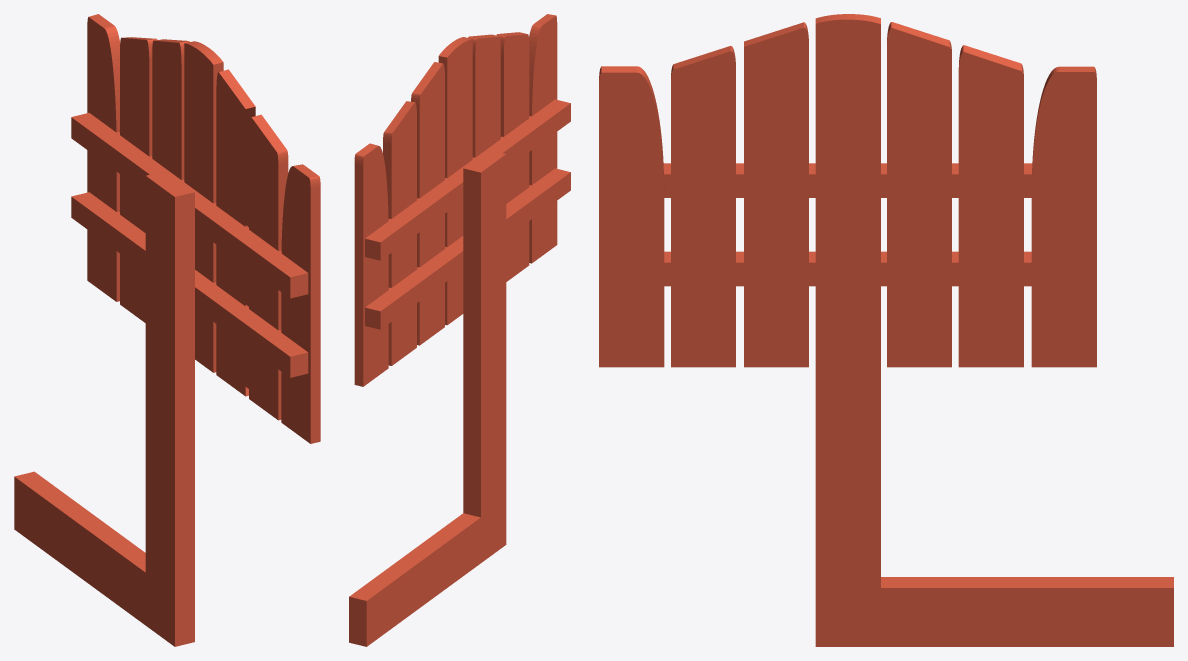
File: Tabela.fbx
3 views of the same model, side by side, from view 1: azimuth 30°, elevation 25°; view 2: azimuth 150°, elevation 25°; view 3: azimuth 270°, elevation 25° (orthographic). The views are drawn at different scales.
Parts seen in each view (by area): view 1: Cube.001; view 2: Cube.001; view 3: Cube.001.
Part boxes in pixels (x1,y1,x2,y2): Cube.001: (14, 14, 320, 646); Cube.001: (349, 14, 570, 646); Cube.001: (599, 14, 1173, 646).
Size of the model in its own units: 0.1923 by 2.18 by 1.77.
